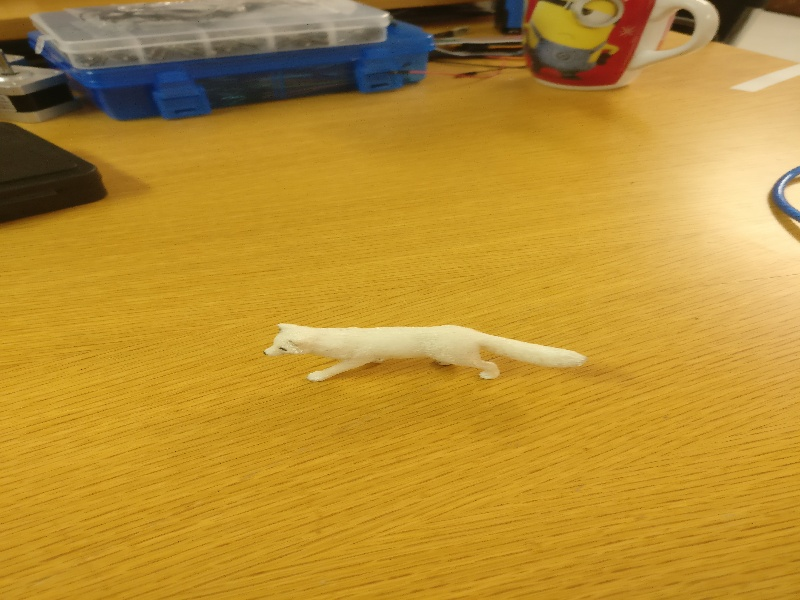toy: (259, 309, 590, 385)
